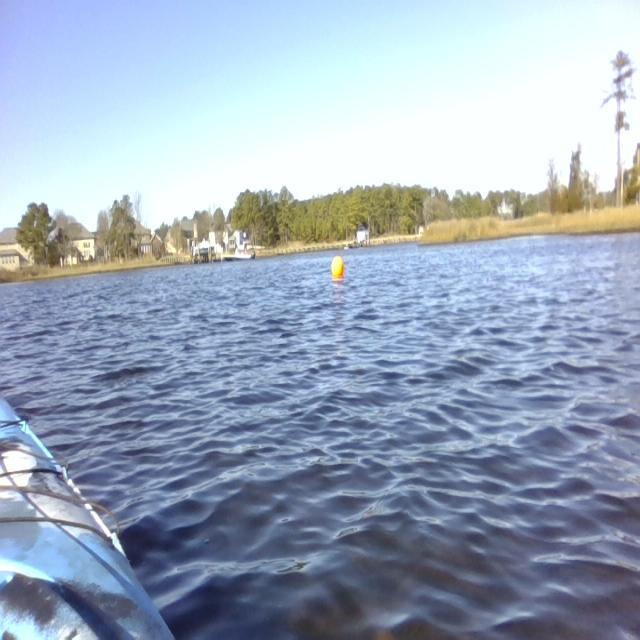Buoy: (329, 252, 346, 284)
